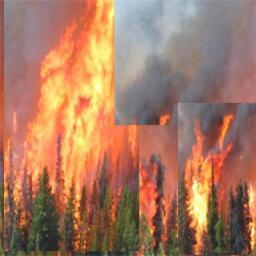Heavy smoke: (6, 1, 256, 165), (115, 1, 256, 124)
Large fire: (3, 1, 255, 253)
